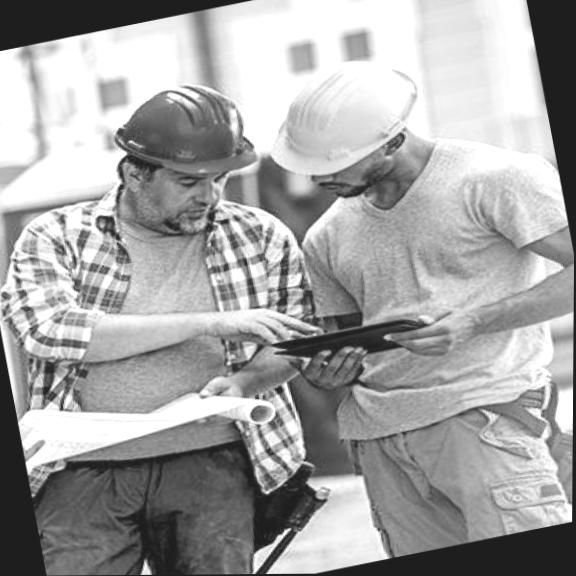no_safety_vest: (310, 166, 570, 465), (6, 218, 289, 476)
